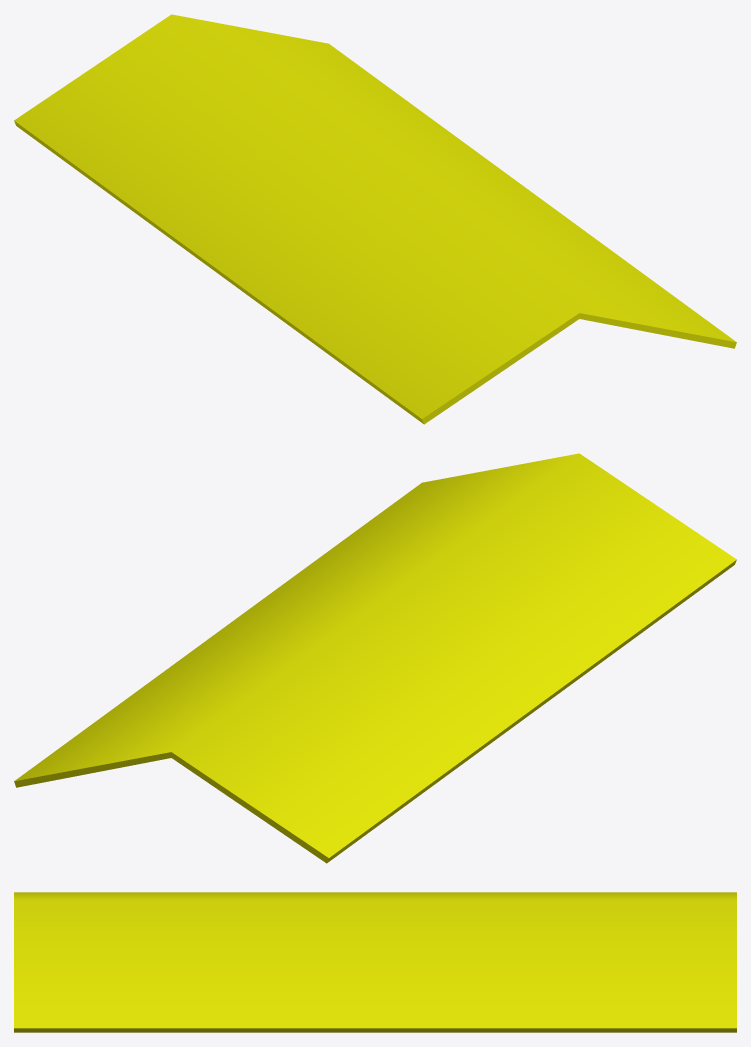
File: Roof.fbx
The picture shows the model from 3 angles, top to bottom: view 1: azimuth 30°, elevation 25°; view 2: azimuth 150°, elevation 25°; view 3: azimuth 270°, elevation 25°; orthographic projection. The views are drawn at different scales.
Visible parts, largest first — view 1: pCube3; view 2: pCube3; view 3: pCube3.
Part boxes in pixels (x1,y1,x2,y2): pCube3: (14, 14, 736, 424); pCube3: (14, 453, 736, 863); pCube3: (14, 892, 736, 1032).
Bounding box in the file's own units: 16.79 × 3.75 × 37.68.
